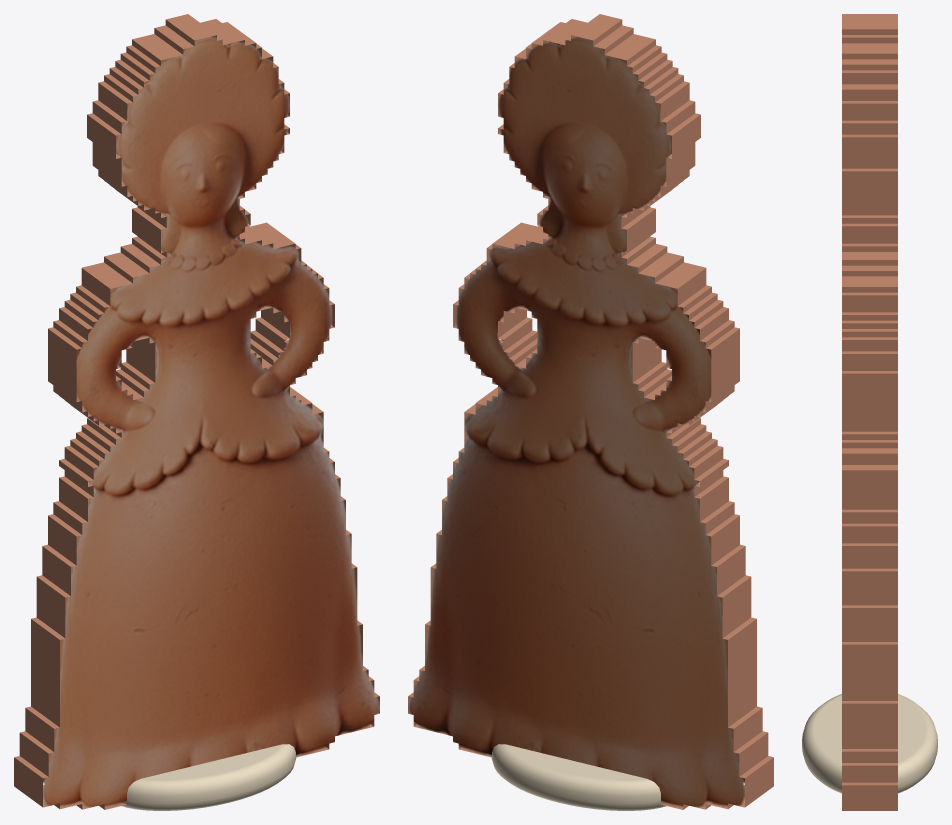
The model's file is ar-clay-lady.glb.
The picture shows the model from 3 angles, left to right: view 1: azimuth 30°, elevation 25°; view 2: azimuth 150°, elevation 25°; view 3: azimuth 270°, elevation 25°; orthographic projection. The views are drawn at different scales.
Parts seen in each view (by area): view 1: ToyArtworkSilhouette, SmallRoundedDisplayFoot; view 2: ToyArtworkSilhouette, SmallRoundedDisplayFoot; view 3: ToyArtworkSilhouette, SmallRoundedDisplayFoot.
Part boxes in pixels (box(x1,y1,x2,y2)): ToyArtworkSilhouette: box(14, 14, 379, 809); SmallRoundedDisplayFoot: box(121, 744, 296, 810); ToyArtworkSilhouette: box(408, 14, 773, 809); SmallRoundedDisplayFoot: box(491, 744, 666, 810); ToyArtworkSilhouette: box(842, 14, 897, 810); SmallRoundedDisplayFoot: box(802, 694, 937, 793).
Size of the model in its own units: 0.0943 by 0.202 by 0.034.
3 materials, 1 textured.
